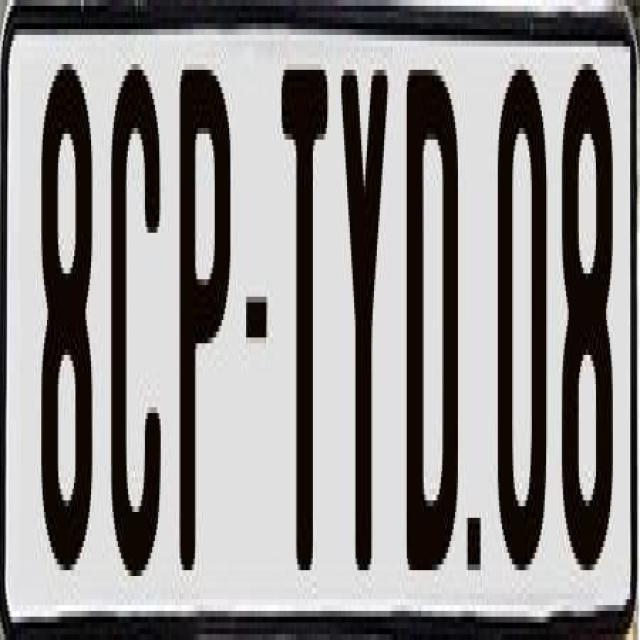0: (494, 58, 550, 576)
8: (41, 64, 97, 605), (559, 52, 613, 594)
C: (110, 52, 167, 600)
D: (404, 64, 459, 582)
P: (179, 63, 232, 564)
T: (277, 70, 330, 600)
Y: (342, 70, 388, 594)
